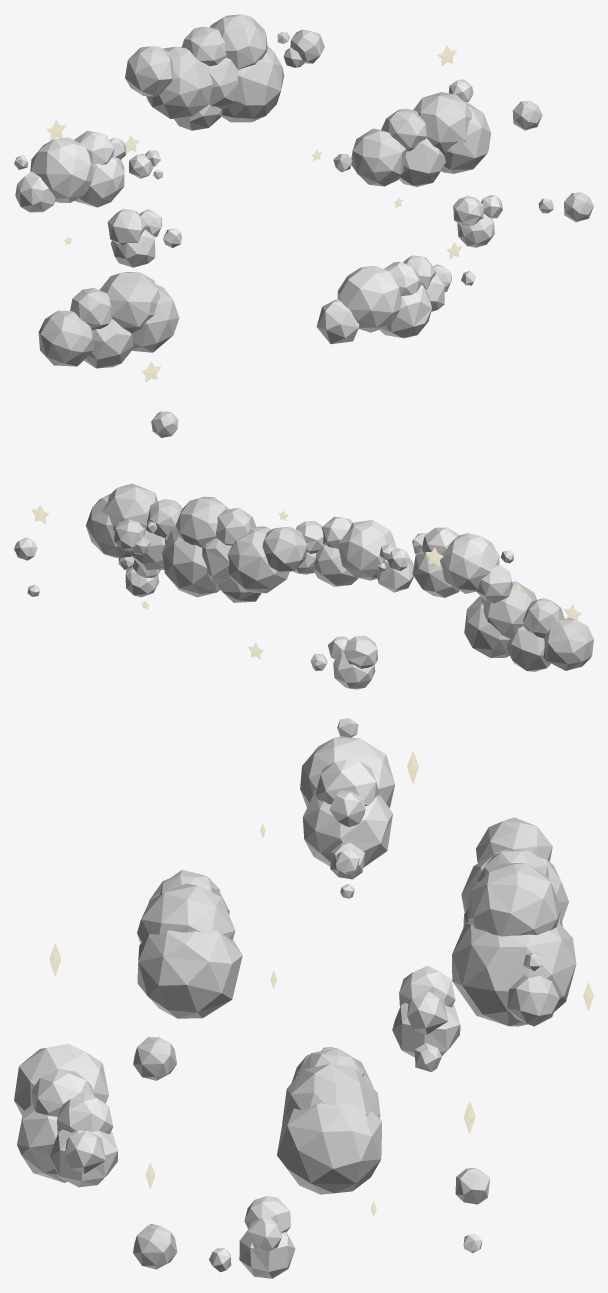
File: cloud.glb
3 views of the same model, one above another, from view 1: azimuth 30°, elevation 25°; view 2: azimuth 150°, elevation 25°; view 3: azimuth 270°, elevation 25° (orthographic). The views are drawn at different scales.
Parts seen in each view (by area): view 1: Sphere.002, Star; view 2: Sphere.002, Star; view 3: Sphere.002, Star.
Part boxes in pixels (x1,y1,x2,y2): Sphere.002: (14, 14, 593, 368); Star: (46, 45, 462, 382); Sphere.002: (14, 411, 593, 689); Star: (31, 505, 581, 659); Sphere.002: (14, 718, 576, 1278); Star: (49, 752, 593, 1217).
Bounding box in the file's own units: 330 × 122 × 212.
